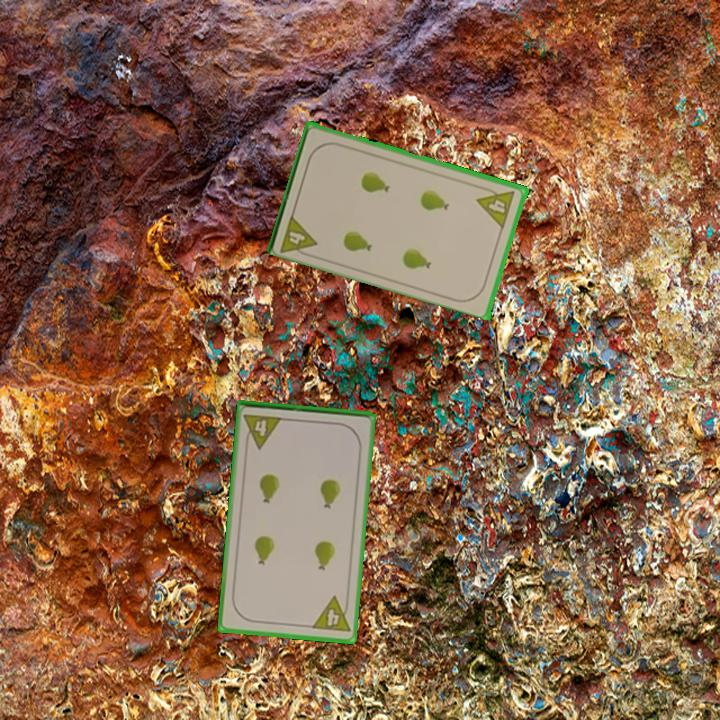4p: (277, 210, 321, 261), (474, 182, 518, 230), (308, 593, 353, 635), (240, 410, 285, 451)
